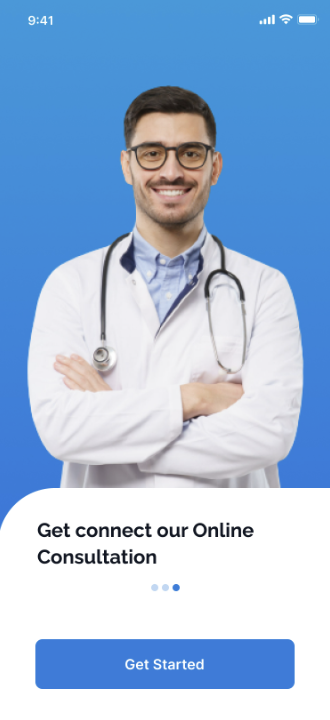Button: (33, 637, 297, 692)
